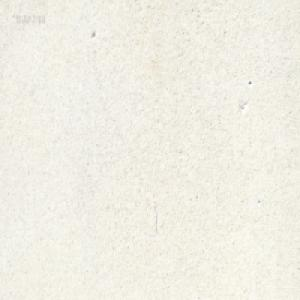Wrench: (160, 0, 166, 4)
